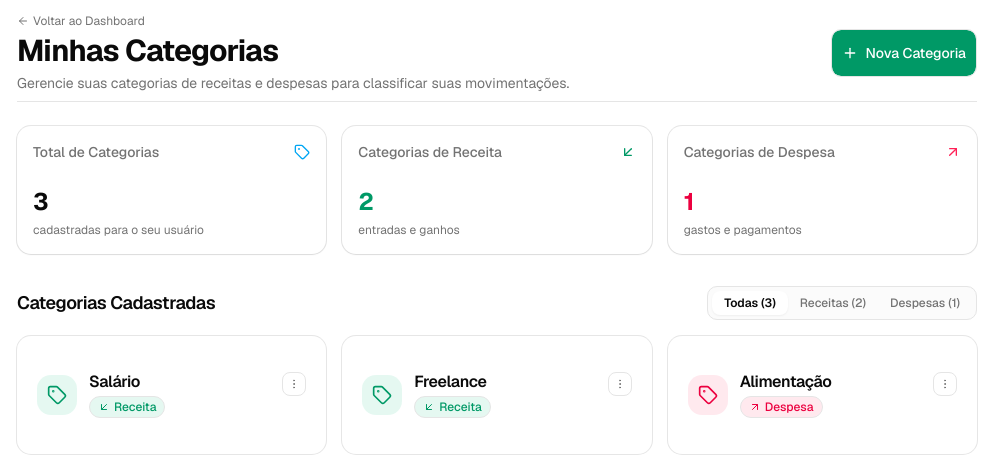
Test: CategoriesView Component › deve filtrar categorias ao clicar nos botões de filtro
Expected: the heading "Salário" is shown, [89, 371, 140, 392]
Filtra apenas Receitas
Click the button with test id "filter-income-button". click: (833, 303)
box: [788, 291, 878, 315]
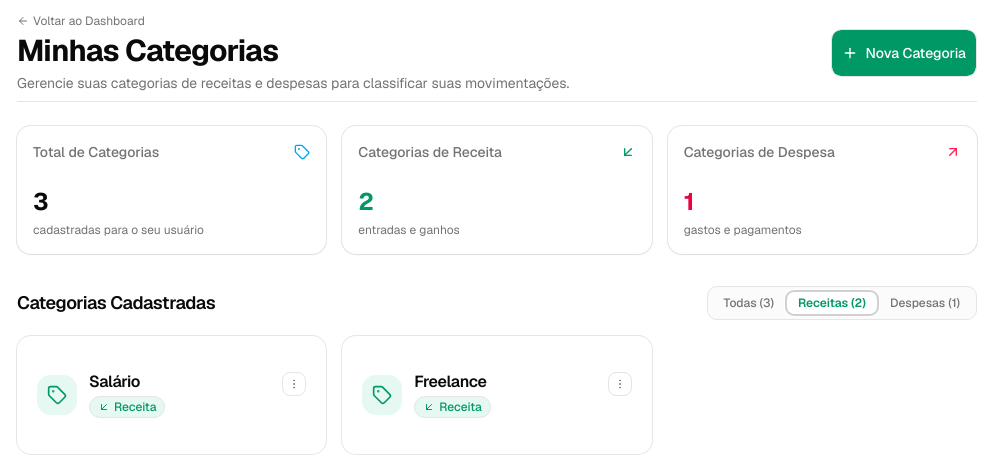
Expected: the heading "Salário" is shown, [89, 371, 140, 392]
Now the heading "Alimentação" is gone
Filtra apenas Despesas
Click the button with test id "filter-expense-button". click: (925, 303)
box: [878, 291, 972, 315]
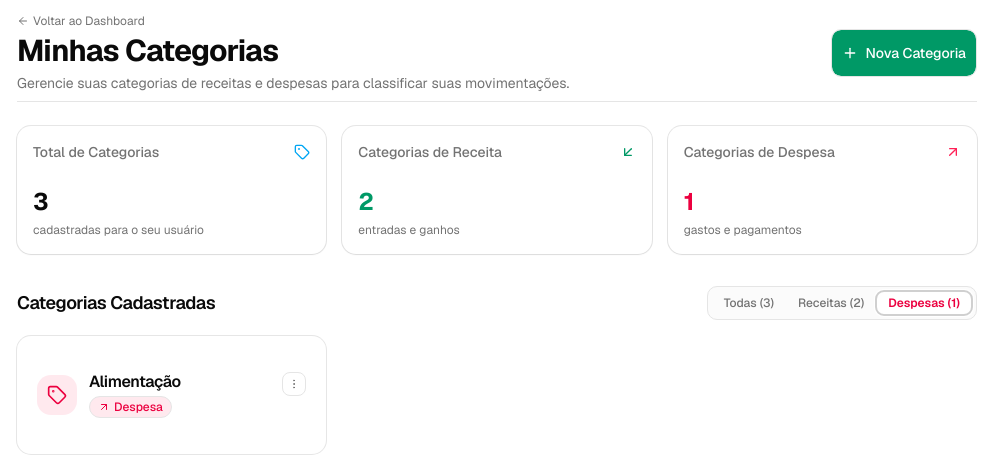
Now the heading "Salário" is gone
Now the heading "Freelance" is gone
Now the heading "Alimentação" is shown, box [89, 372, 181, 392]
